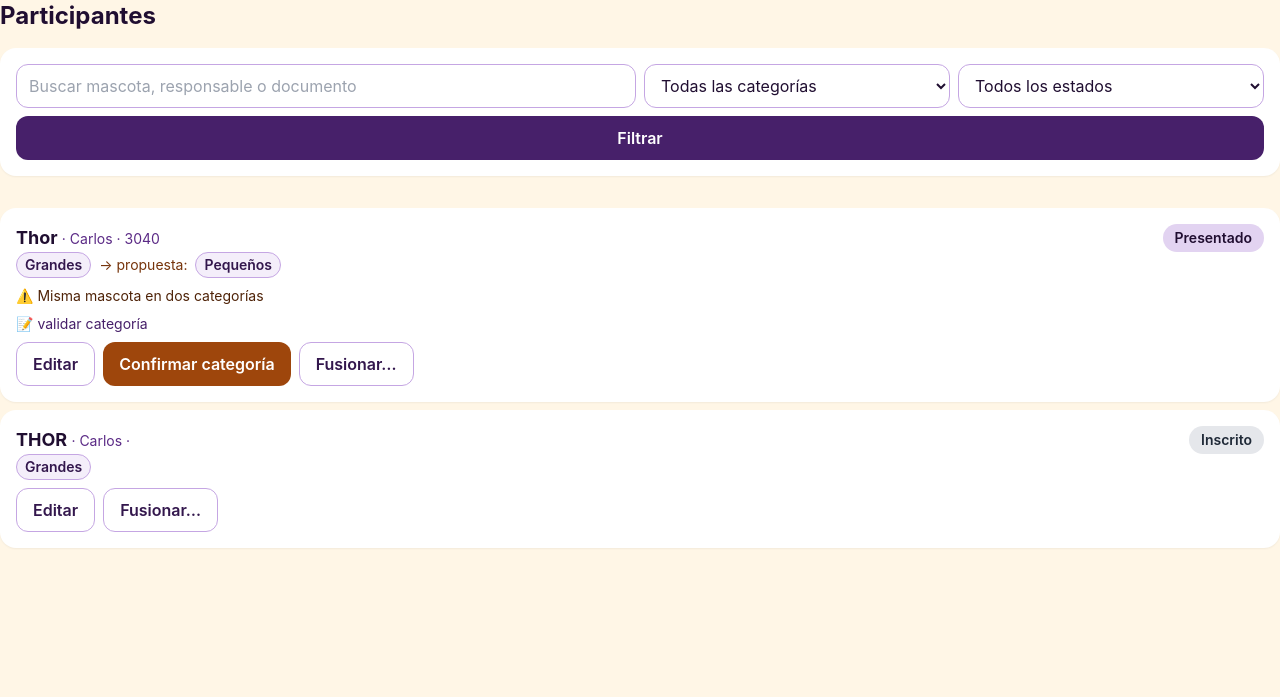
Test: Cancelar cierra la fusión y reinicia el destino
This screenshot has width=1280, height=697.
Click the button with test id "fusionar-t1".
click(356, 364)  # box [299,342,414,386]
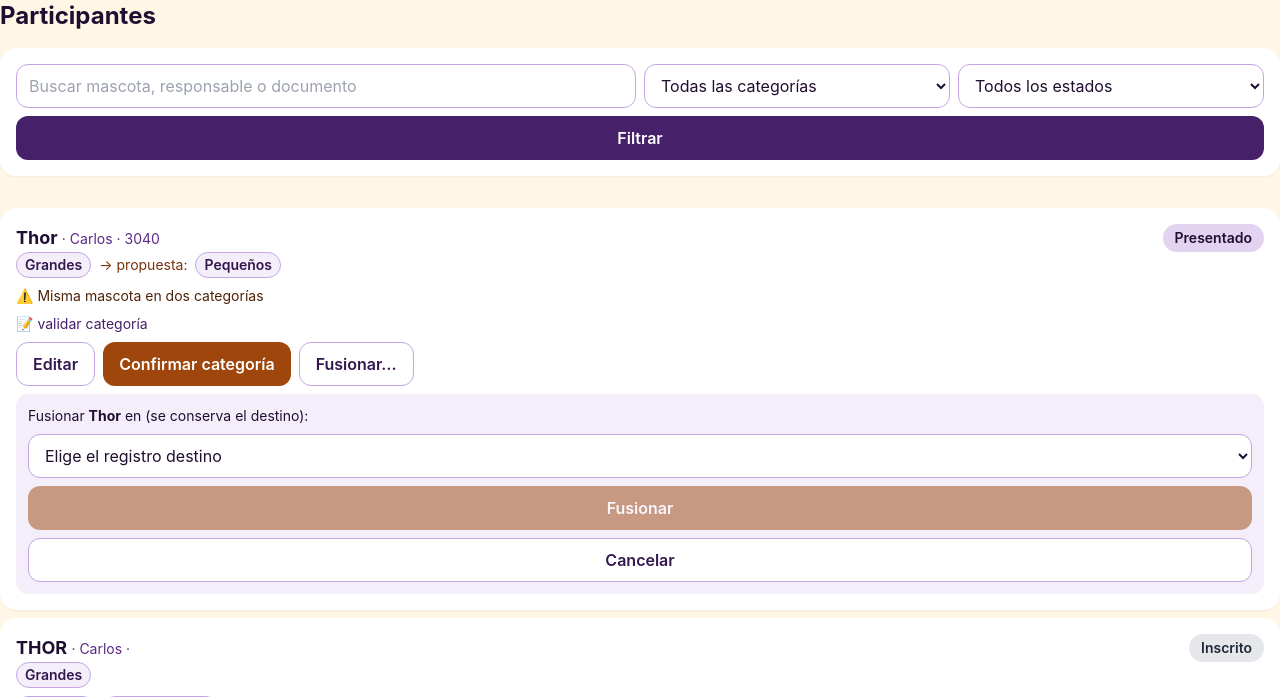
Select "THOR · Carlos · sin documento · Grandes" in the dropdown with test id "destino-fusion" at [640, 456], box [28,434,1252,478]
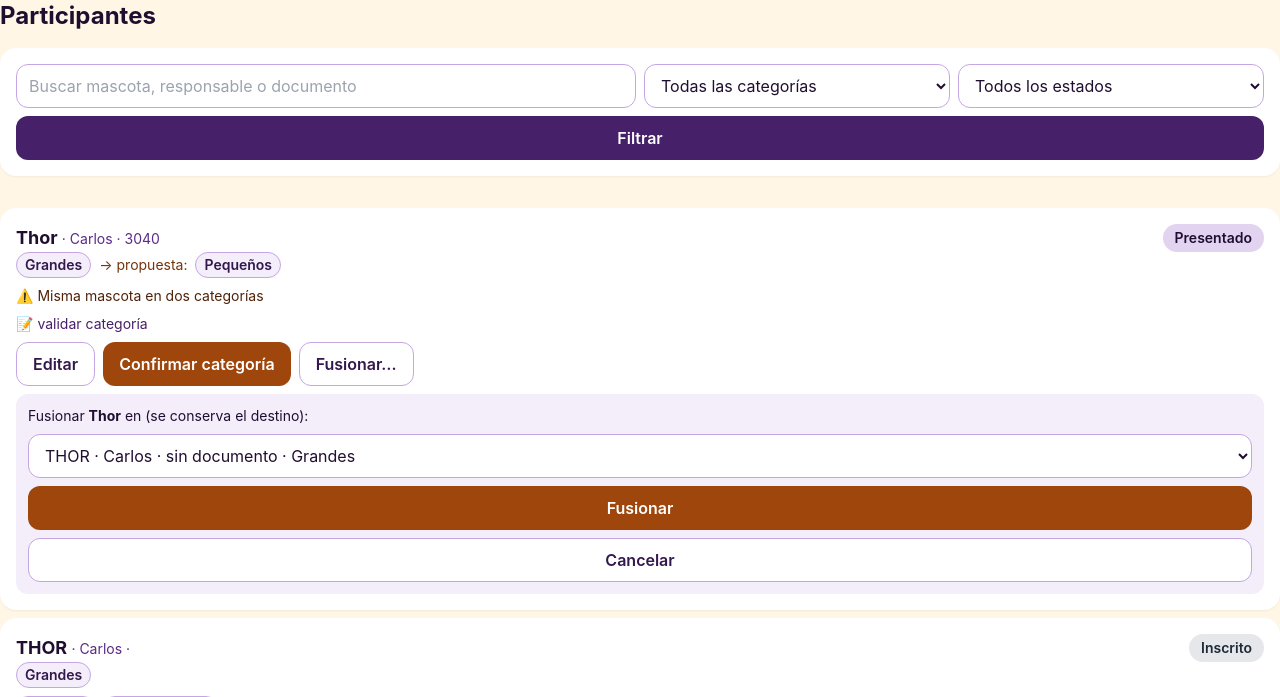
Click the button with test id "cancelar-fusion".
click(640, 560)  # box [28,538,1252,582]
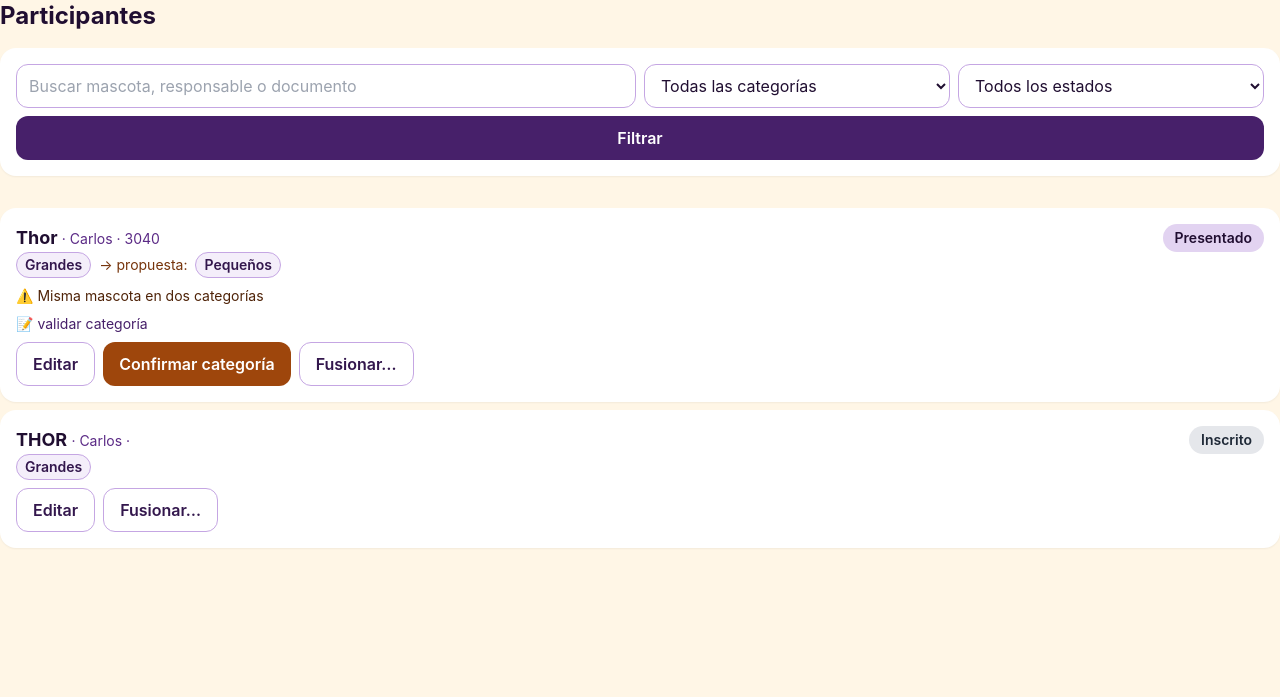
Click the button with test id "fusionar-t1".
click(356, 364)  # box [299,342,414,386]
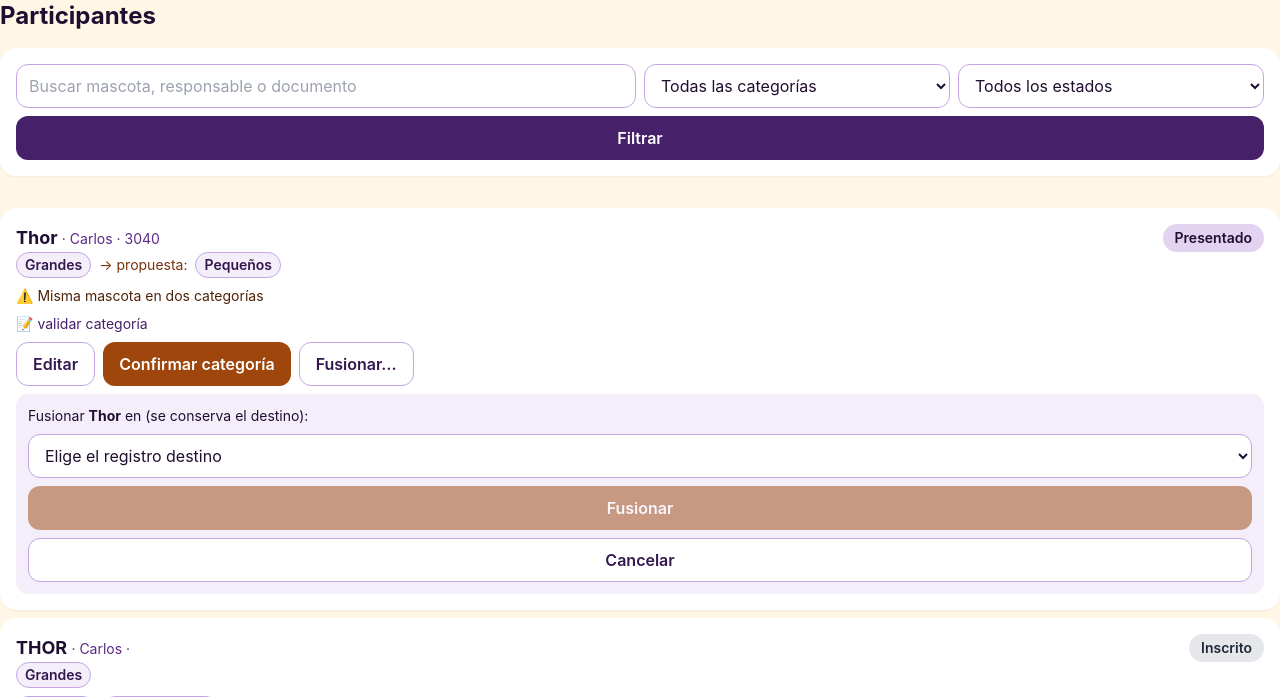
expect the dropdown with test id "destino-fusion" shows "Elige el registro destino": met, box [28,434,1252,478]
